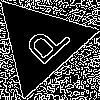P: (16, 18, 74, 74)
